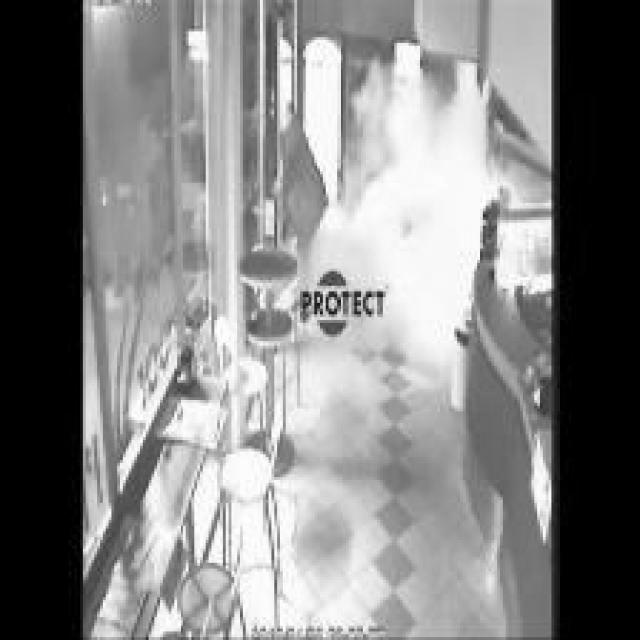fire: (302, 65, 484, 362)
